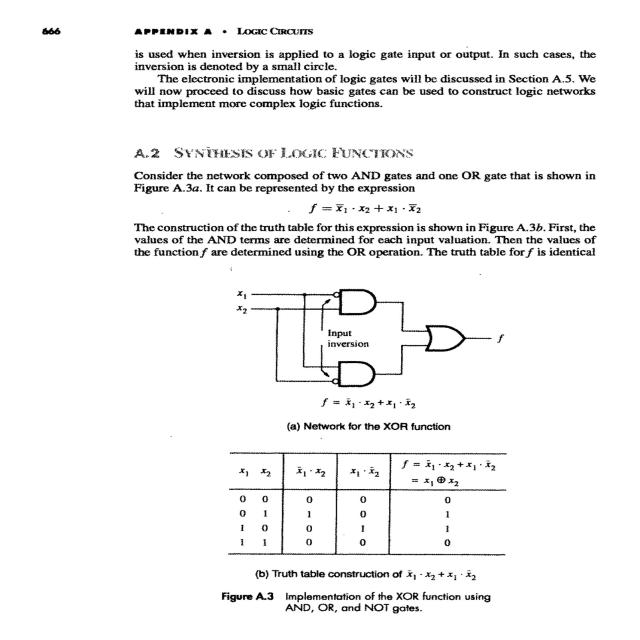diagram: (101, 263, 588, 632)
